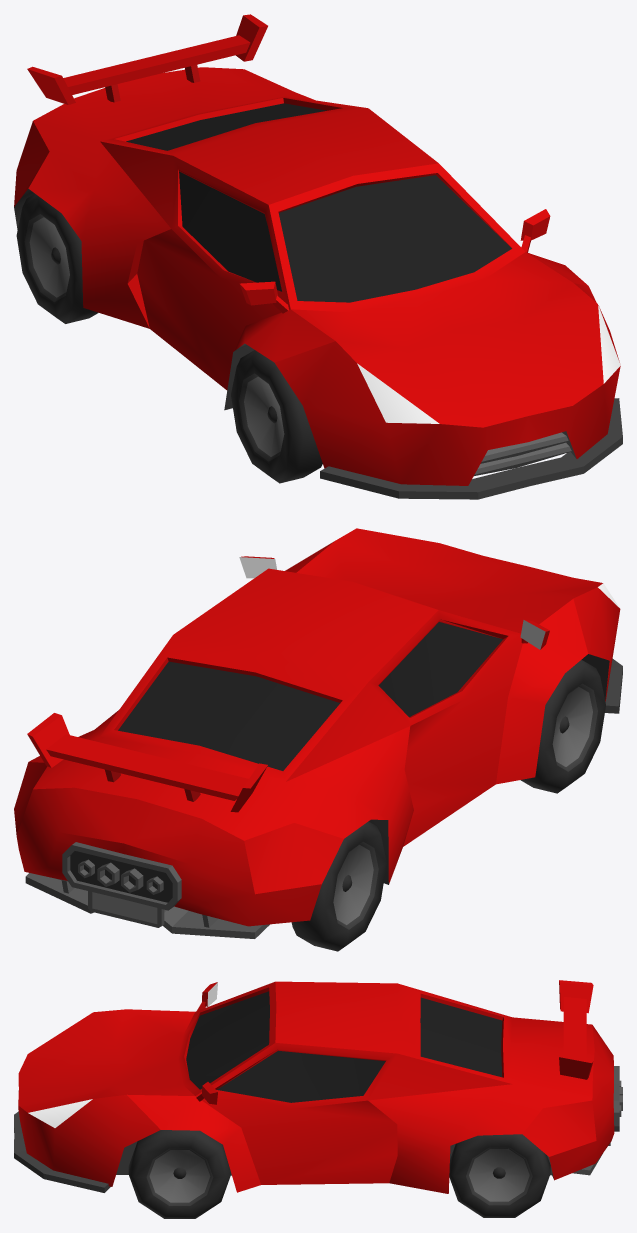
Rendered from lamb.glb.
3 renders of one model, top to bottom at view 1: azimuth 30°, elevation 25°; view 2: azimuth 150°, elevation 25°; view 3: azimuth 270°, elevation 25°, orthographic. The views are drawn at different scales.
Visible parts, largest first — view 1: lamb, wheels.001, wheels; view 2: lamb, wheels, wheels.001; view 3: lamb, wheels.057, wheels.056.
Part boxes in pixels (bbox=[...]): lamb: bbox=[14, 14, 622, 499]; wheels.001: bbox=[231, 350, 322, 483]; wheels: bbox=[16, 194, 98, 323]; lamb: bbox=[14, 528, 622, 938]; wheels: bbox=[291, 821, 386, 951]; wheels.001: bbox=[520, 660, 605, 793]; lamb: bbox=[14, 980, 622, 1193]; wheels.057: bbox=[128, 1130, 230, 1218]; wheels.056: bbox=[449, 1134, 550, 1217].
Bounding box in the file's own units: 2.07 × 1.33 × 4.62.
3 materials, 3 textured.
